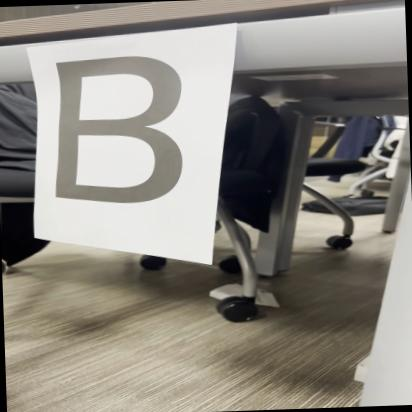seat: (31, 39, 195, 220)
